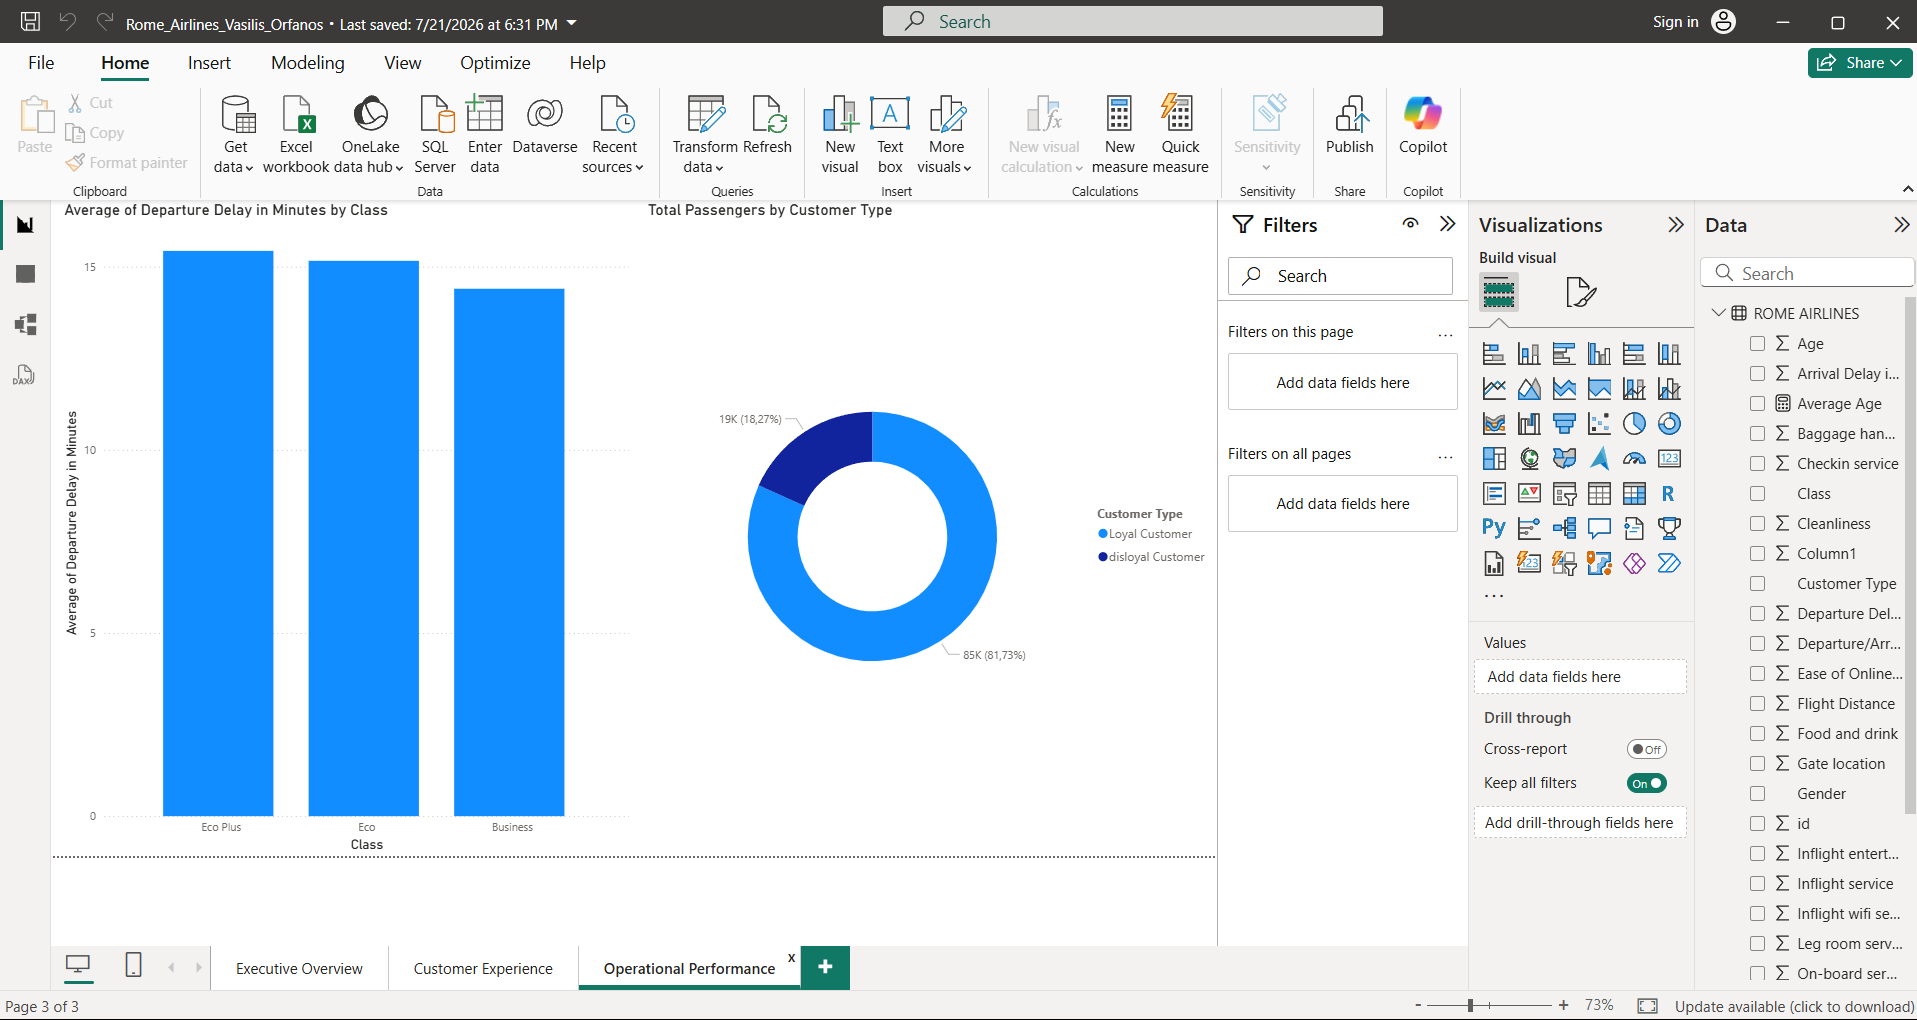

This screenshot's page, from the dashboard's own definition file:
{"tool":"powerbi","page":{"name":"Operational Performance","canvas":[1280,720],"ordinal":2},"visuals":[{"type":"clusteredColumnChart","fields":{"Category":["ROME AIRLINES.Class"],"Y":["Avg(ROME AIRLINES.Departure Delay in Minutes)"]},"box":[9.6,0,629.8,720.4],"z":0},{"type":"donutChart","fields":{"Category":["ROME AIRLINES.Customer Type"],"Y":["ROME AIRLINES.Total Passengers"]},"box":[650,0,630,720],"z":1}]}

Visuals, with their boxes on the page's 1280x720 design canvas (x1, y1, x2, y2). These are canvas units, not pixel positions in the 1917x1020 screenshot, which may show the page scaled, cropped or inside an application window:
clusteredColumnChart - ROME AIRLINES.Class x Avg(ROME AIRLINES.Departure Delay in Minutes): [x1=10, y1=0, x2=639, y2=720]
donutChart - ROME AIRLINES.Customer Type x ROME AIRLINES.Total Passengers: [x1=650, y1=0, x2=1280, y2=720]
